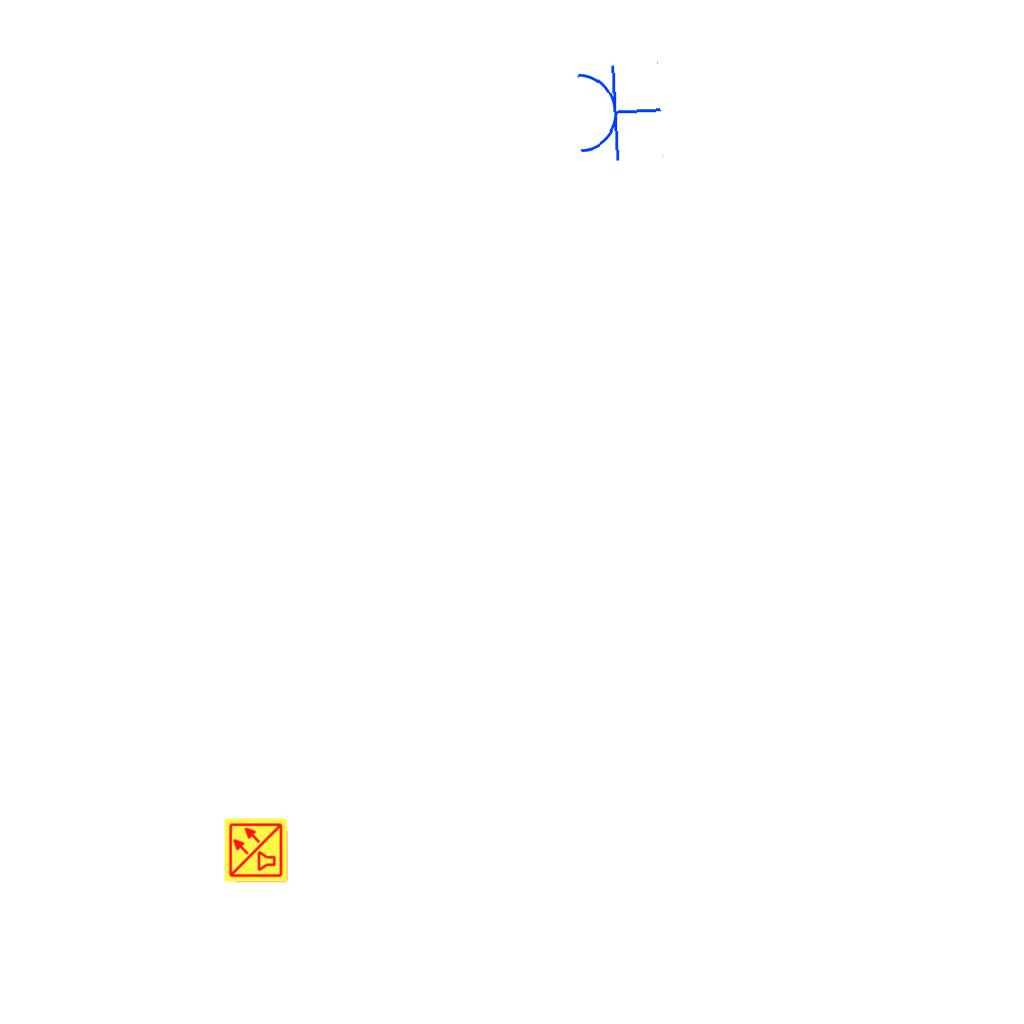OKW_Multisensormelder_(Kombination_optischer_Rauch-Kahlenmonoxid_Waerme-Melder): (223, 817, 289, 883)
Schukosteckdose_einfach: (571, 59, 665, 164)
